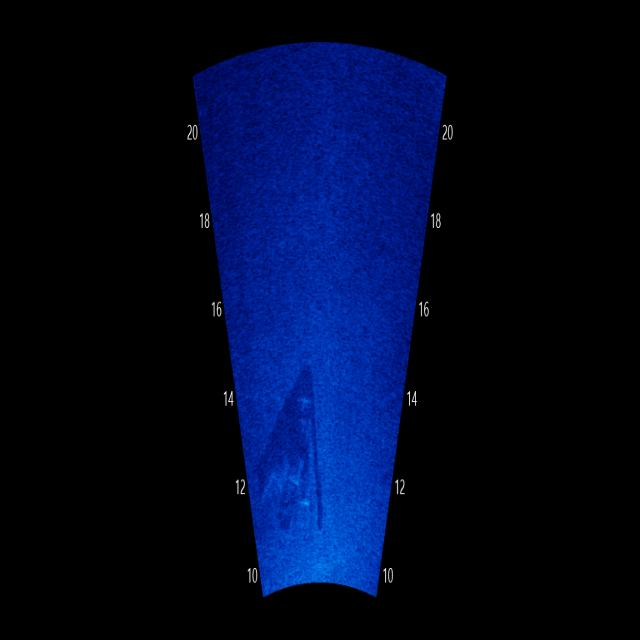triangle: (254, 325, 332, 557)
